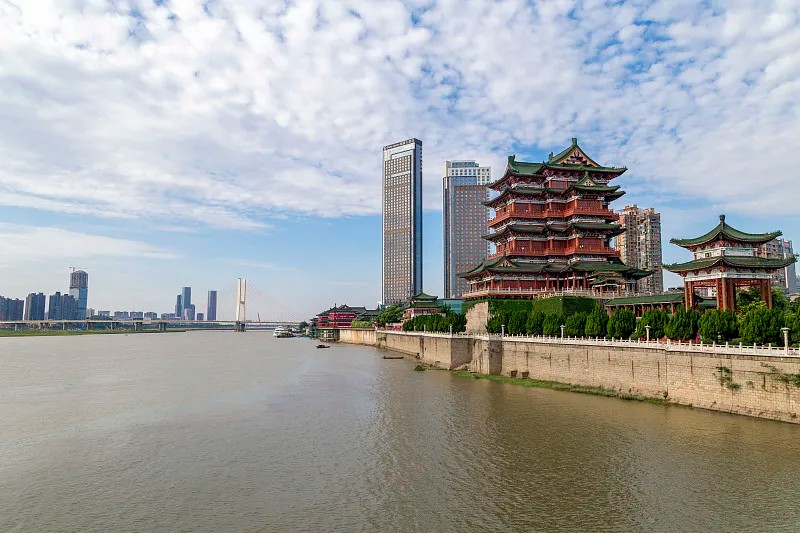Teng: (455, 138, 658, 296)
